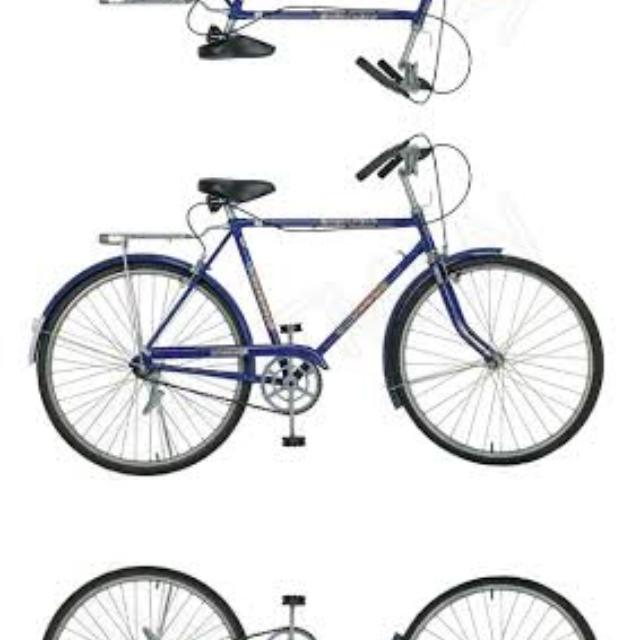obstacle: (37, 130, 599, 500), (37, 0, 599, 105), (37, 541, 599, 640)
